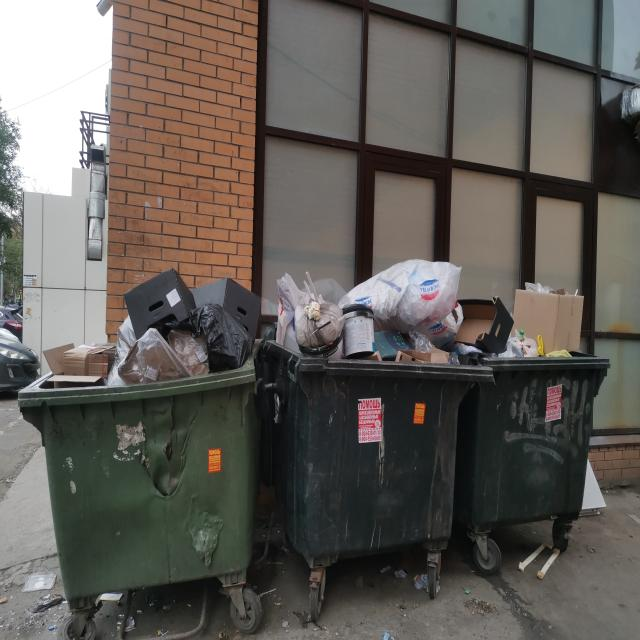bin: (20, 367, 252, 608), (258, 343, 487, 552), (476, 362, 612, 527)
trash: (278, 250, 514, 363), (38, 264, 267, 373)
